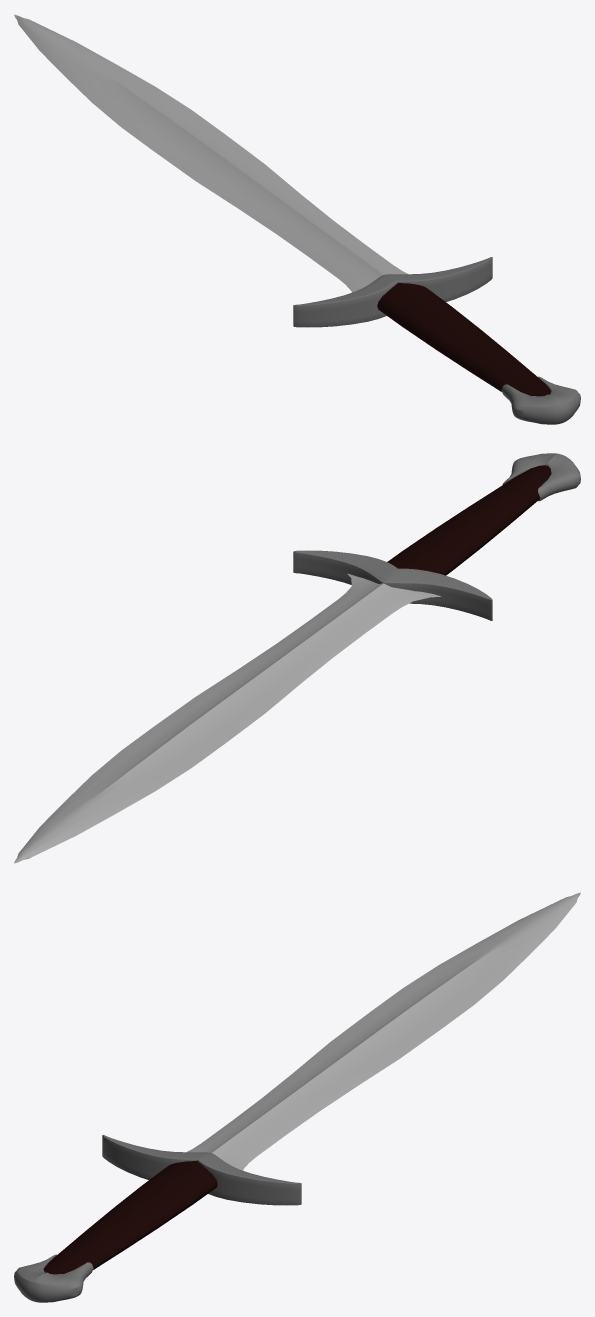
The model's file is free3d_sting_sword_no_tex.glb.
The picture shows the model from 3 angles, top to bottom: view 1: azimuth 30°, elevation 25°; view 2: azimuth 150°, elevation 25°; view 3: azimuth 330°, elevation 25°; orthographic projection.
Parts seen in each view (by area): view 1: Sting-Sword; view 2: Sting-Sword; view 3: Sting-Sword.
Boxes of the visible parts, x1,y1,x2,y2 form: Sting-Sword: [14, 14, 580, 424]; Sting-Sword: [14, 453, 580, 863]; Sting-Sword: [14, 892, 580, 1302].
Size of the model in its own units: 0.2291 by 0.0308 by 1.09.
